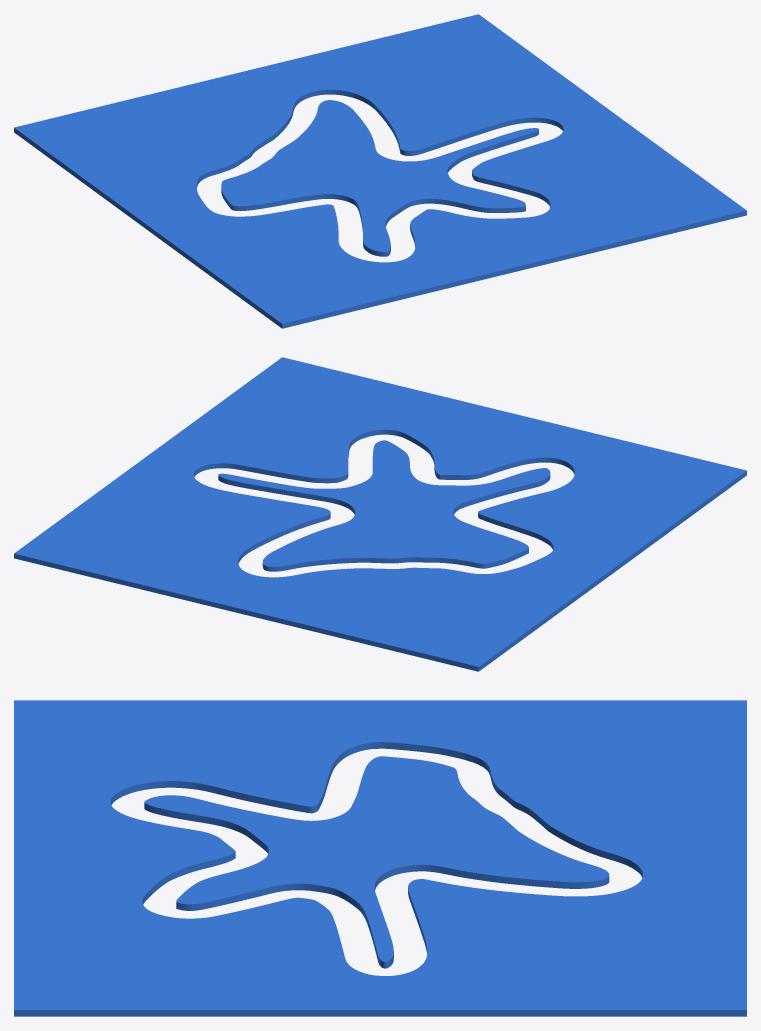
Rendered from map12.dae.
3 views of the same model, one above another, from view 1: azimuth 30°, elevation 25°; view 2: azimuth 150°, elevation 25°; view 3: azimuth 270°, elevation 25° (orthographic). The views are drawn at different scales.
Visible parts, largest first — view 1: ImageToStl.com_map12; view 2: ImageToStl.com_map12; view 3: ImageToStl.com_map12.
Part boxes in pixels (x1=…): ImageToStl.com_map12: x1=14, y1=14, x2=746, y2=328; ImageToStl.com_map12: x1=14, y1=357, x2=746, y2=671; ImageToStl.com_map12: x1=14, y1=700, x2=746, y2=1016.
Size of the model in its own units: 20 by 20 by 0.2.
